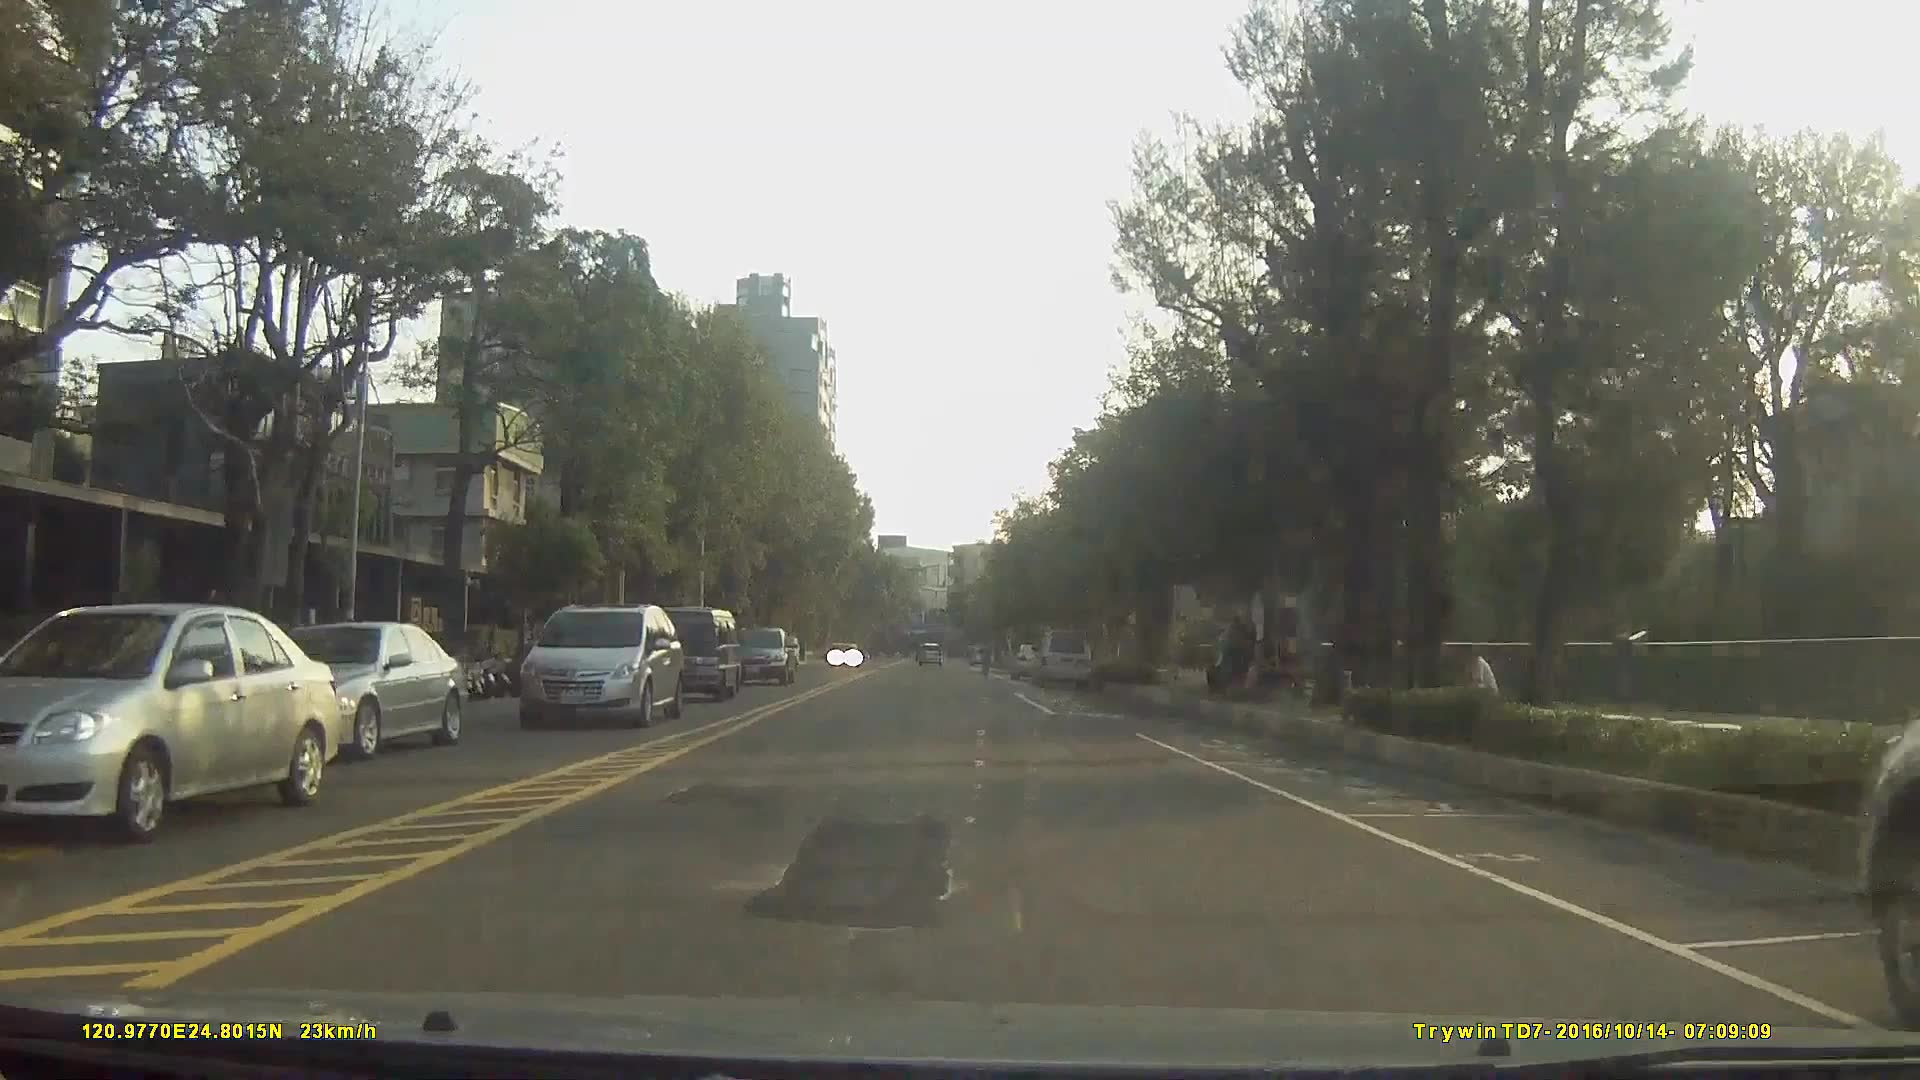rider: (976, 633, 996, 678)
vehicle: (0, 599, 338, 841), (251, 620, 464, 758), (514, 602, 683, 727), (637, 605, 741, 698), (724, 621, 792, 680), (1029, 623, 1091, 685), (1010, 642, 1051, 683), (915, 640, 943, 664)
